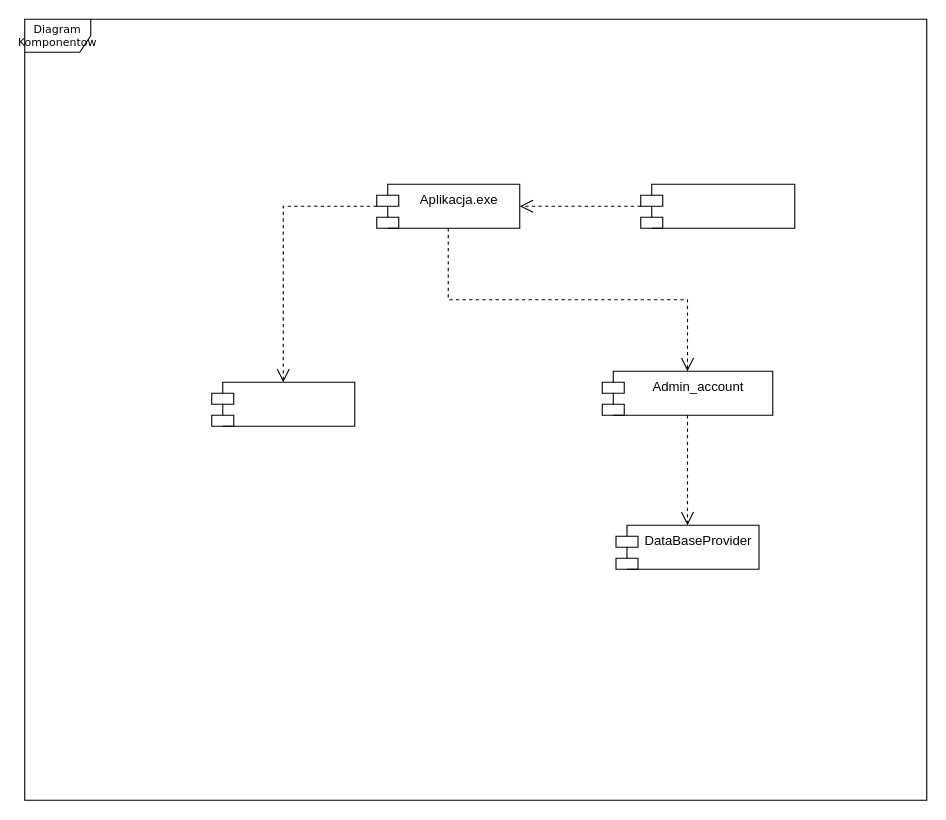
The diagram is 946 pixels wide and 820 high, and some of its shapes have lost their labels. Here are the shapes that lost their labels. From the top down, the box of each, then its label:
(640, 183, 795, 228): Klient_account
(211, 381, 355, 426): GUI
